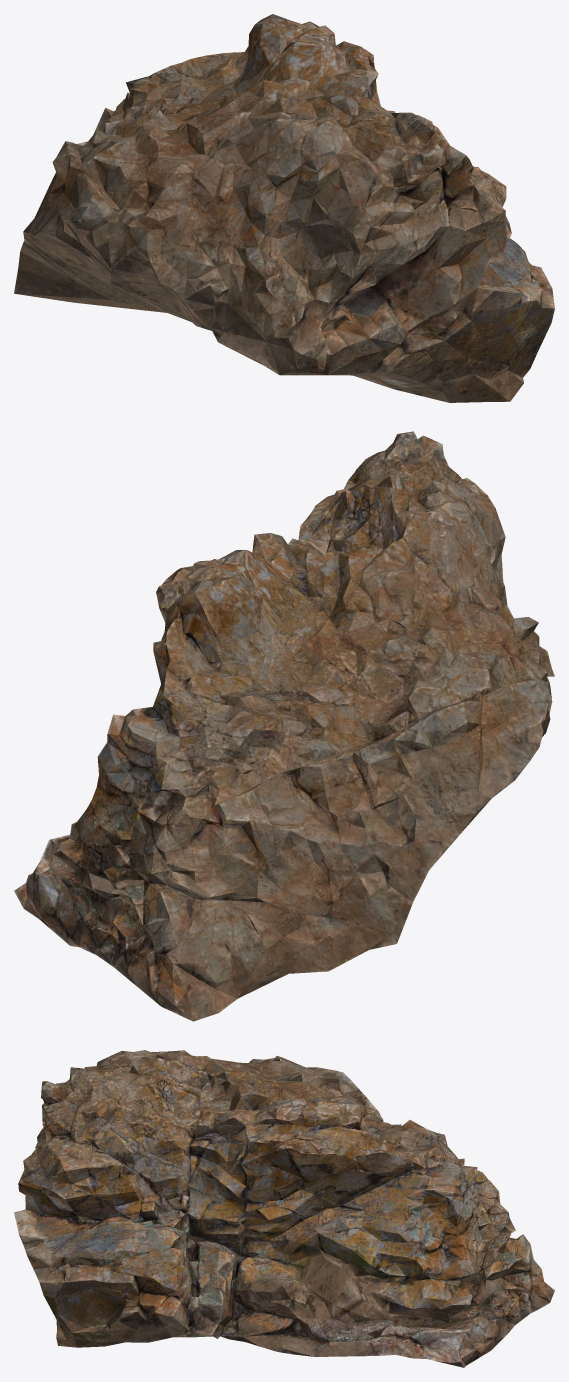
File: boulder_scanned_01.glb
3 renders of one model, top to bottom at view 1: azimuth 30°, elevation 25°; view 2: azimuth 150°, elevation 25°; view 3: azimuth 270°, elevation 25°, orthographic. The views are drawn at different scales.
Parts seen in each view (by area): view 1: BoulderScanned01; view 2: BoulderScanned01; view 3: BoulderScanned01.
Boxes of the visible parts, bbox=[...] form: BoulderScanned01: bbox=[14, 14, 554, 402]; BoulderScanned01: bbox=[14, 431, 554, 1021]; BoulderScanned01: bbox=[14, 1050, 554, 1367].
Bounding box in the file's own units: 1.28 × 0.9959 × 1.83.
1 material, 1 textured.
